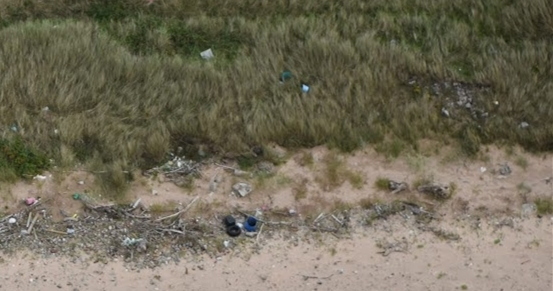scattered_barrel: (190, 40, 317, 100), (4, 190, 86, 228), (217, 205, 265, 243)
